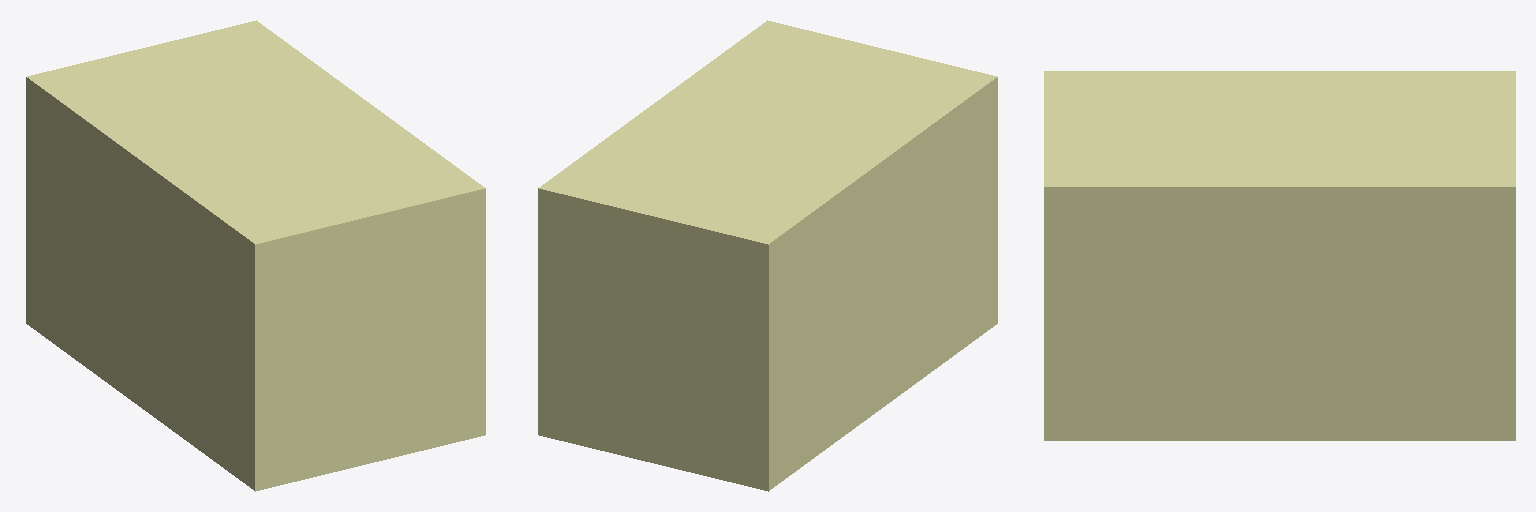
The robot description file, URDF, robot "box.urdf":
<?xml version="1.0" ?>
<robot name="box.urdf">
  <link name="baseLink">
    <contact>
      <lateral_friction value="1.0"/>
      <rolling_friction value="0.0001"/>
      <inertia_scaling value="3.0"/>
    </contact>
    <inertial>
      <origin rpy="0 0 0" xyz="0 0 0"/>
       <mass value="0.1"/>
       <inertia ixx="1" ixy="0" ixz="0" iyy="1" iyz="0" izz="1"/>
    </inertial>
    <visual>
      <origin rpy="0 0 0" xyz="0 0 0"/>
      <geometry>
        <!-- <box size="0.203 0.35 0.20800000000000002"/> -->
        <mesh filename="box/box.obj" scale="0.203 0.35 0.20800000000000002"/>
      </geometry>
      <material name="white">
        <color rgba="0.9 0.9 0.7 1"/>
      </material>
    </visual>
    <collision>
      <origin rpy="0 0 0" xyz="0 0 0"/>
      <geometry>
        <mesh filename="box/box.obj" scale="0.203 0.35 0.20800000000000002"/>
	 	    <!-- <box size="0.203 0.35 0.20800000000000002"/> -->
      </geometry>
    </collision>
  </link>
</robot>

--- What the picture shows (computed from the rendered views, not written in the file) ---
3 views of the same robot in one strip: view 1: azimuth 30°, elevation 25°; view 2: azimuth 150°, elevation 25°; view 3: azimuth 270°, elevation 25° (orthographic).
Model box.urdf with 1 links and 0 joints (none), rooted at baseLink, posed every joint at zero.
Visible links, largest first — view 1: baseLink; view 2: baseLink; view 3: baseLink.
Link boxes in pixels (x1,y1,x2,y2): baseLink: [26, 20, 485, 491]; baseLink: [538, 20, 997, 491]; baseLink: [1044, 71, 1515, 440].
Bounding box of the posed robot: 0.203 × 0.35 × 0.208 m (x, y, z).
1 mesh visuals loaded from 1 distinct referenced files (1 OBJ).
